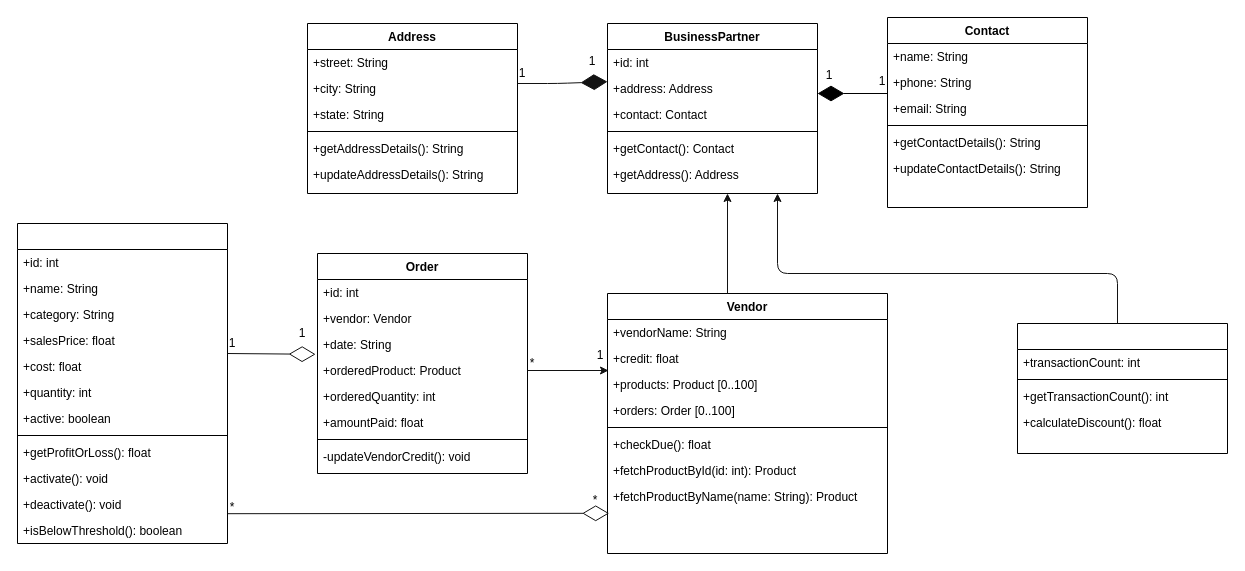
Image size: 1245x571. Some labels were removed from this diagram. The shapes that lost their labels are listed below. From the top down, each one's box as (x1, y1, x2, y2) in pixels, then its label:
(16, 222, 228, 544): Product
(1016, 322, 1228, 454): Customer
